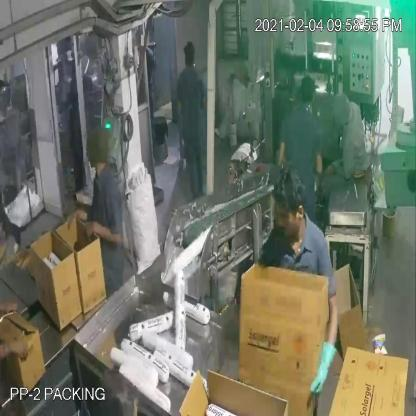glove: (310, 288, 342, 399)
no_glove: (85, 212, 124, 255), (62, 202, 96, 234), (0, 329, 28, 366), (0, 290, 22, 322)
